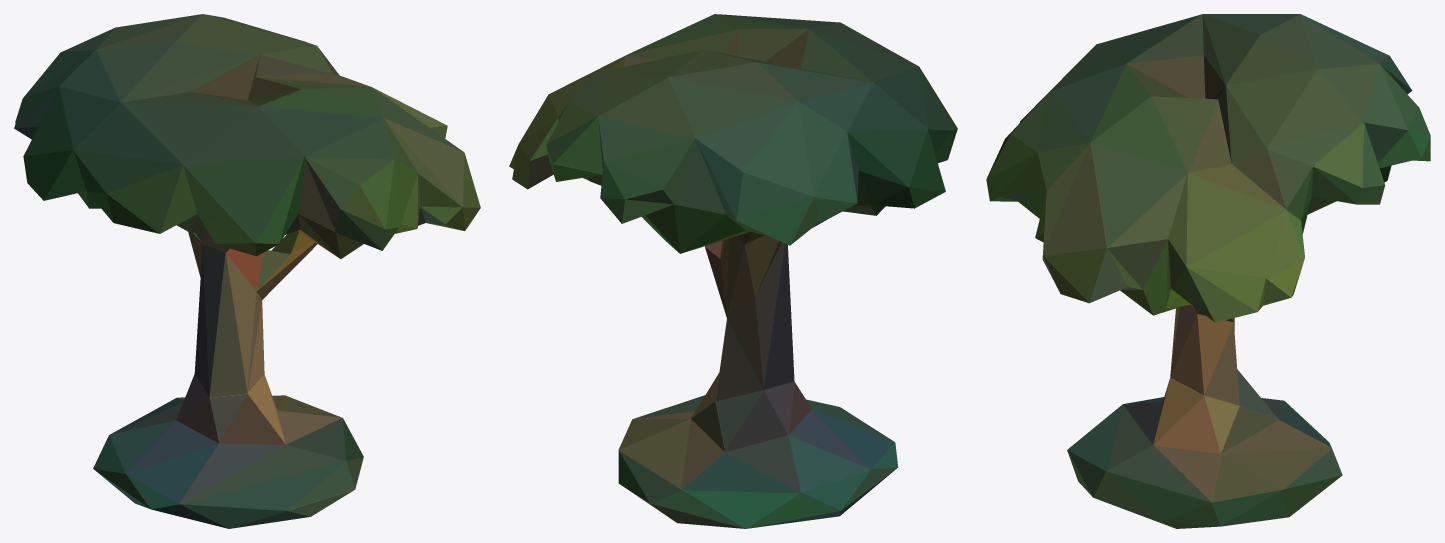
Rendered from JungleTree1.fbx.
The picture shows the model from 3 angles, left to right: view 1: azimuth 30°, elevation 25°; view 2: azimuth 150°, elevation 25°; view 3: azimuth 270°, elevation 25°; orthographic projection. The views are drawn at different scales.
Visible parts, largest first — view 1: Mesh_0; view 2: Mesh_0; view 3: Mesh_0.
Boxes of the visible parts, x1,y1,x2,y2 form: Mesh_0: [14, 14, 480, 528]; Mesh_0: [509, 14, 957, 528]; Mesh_0: [986, 14, 1430, 528].
Size of the model in its own units: 139 by 151 by 133.
Materials: 1 (1 with a texture image).
